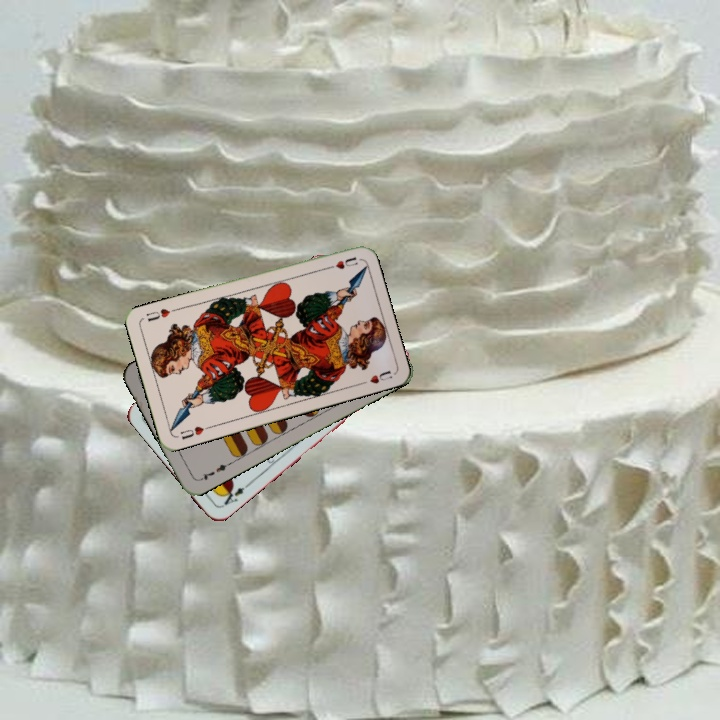E7: (195, 459, 233, 483)
EA: (217, 482, 247, 510)
HU: (321, 253, 360, 272), (176, 422, 213, 442)
